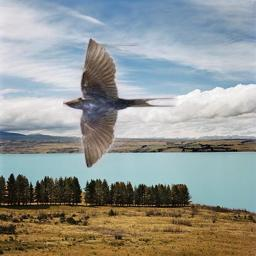Swallow: (63, 38, 178, 168)
